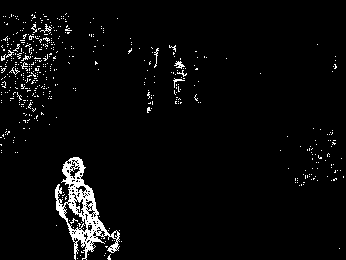person: (50, 157, 126, 259), (170, 59, 189, 108)
